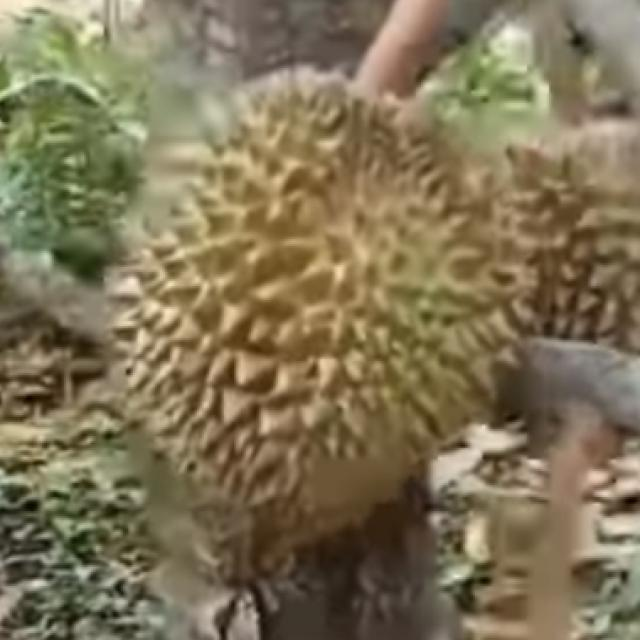mature: (96, 72, 533, 568)
